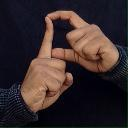hand: (19, 16, 73, 112), (47, 9, 119, 73)
